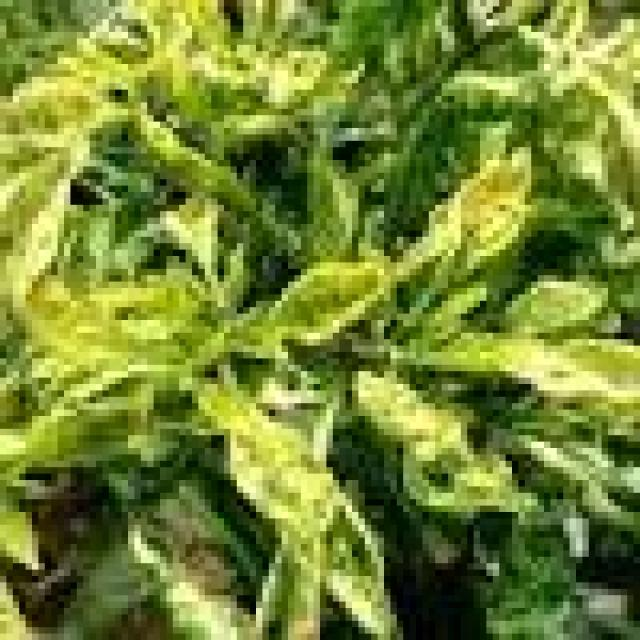virus_kuning: (2, 187, 142, 368), (432, 139, 563, 267), (338, 366, 468, 456)
